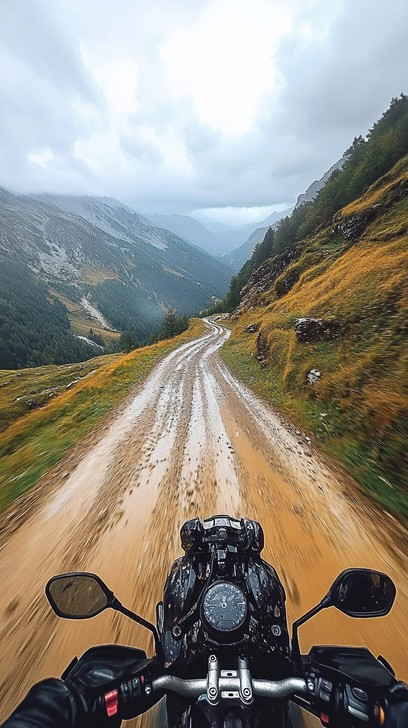Motorcycle: (14, 505, 400, 724)
